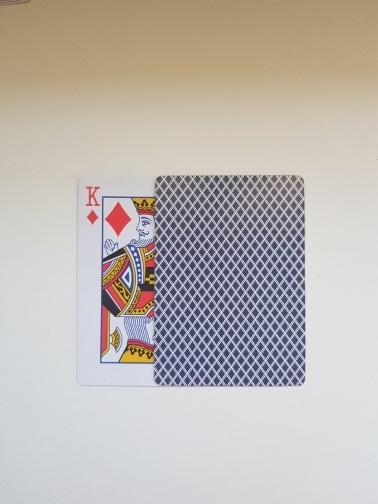king: (74, 174, 236, 388)
